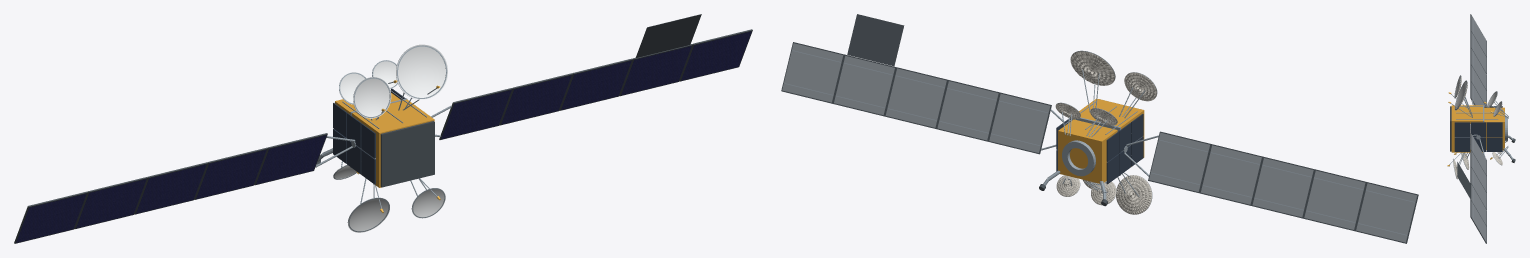
The model's file is ses-12.glb.
3 views of the same model, side by side, from view 1: azimuth 30°, elevation 25°; view 2: azimuth 150°, elevation 25°; view 3: azimuth 270°, elevation 25° (orthographic). The views are drawn at different scales.
Visible parts, largest first — view 1: Solar cell panel (×10), Earth-facing deck, Reflector 4 face, Payload module, Solar wing trim flap, Reflector 3 face, Reflector 1 face, Reflector 2 face, Reflector 7 face, Reflector 8 face, Radiator bay; view 2: Rear array substrate (×10), Service module, Solar wing trim flap, Reflector 1 insulated back, Reflector 4 insulated back, Payload module, Launch adapter ring, Reflector 3 insulated back, Solar panel frame (×2), Reflector 6 insulated back, Reflector 5 insulated back; view 3: Rear array substrate (×10), Radiator bay (×6), Payload module, Solar panel frame (×9), Service module, Solar wing trim flap, Reflector 4 face, Earth-facing deck, Reflector 1 insulated back, Launch adapter ring, Reflector 6 insulated back, Reflector 7 face (+5 smaller).
Boxes of the visible parts, left/top/right/bottom form: Solar cell panel (×10): left=16, top=31, right=751, bottom=242; Earth-facing deck: left=380, top=121, right=434, bottom=187; Reflector 4 face: left=396, top=44, right=447, bottom=99; Payload module: left=352, top=99, right=434, bottom=187; Solar wing trim flap: left=635, top=14, right=701, bottom=57; Reflector 3 face: left=353, top=77, right=391, bottom=118; Reflector 1 face: left=348, top=198, right=389, bottom=232; Reflector 2 face: left=412, top=188, right=445, bottom=218; Reflector 7 face: left=339, top=72, right=366, bottom=104; Reflector 8 face: left=372, top=60, right=397, bottom=88; Radiator bay: left=361, top=123, right=375, bottom=158; Rear array substrate (×10): left=782, top=43, right=1417, bottom=242; Service module: left=1058, top=119, right=1117, bottom=183; Solar wing trim flap: left=847, top=14, right=904, bottom=66; Reflector 1 insulated back: left=1116, top=175, right=1151, bottom=214; Reflector 4 insulated back: left=1070, top=51, right=1115, bottom=85; Payload module: left=1079, top=99, right=1144, bottom=166; Launch adapter ring: left=1062, top=140, right=1095, bottom=176; Reflector 3 insulated back: left=1124, top=72, right=1156, bottom=101; Solar panel frame (×2): left=988, top=92, right=1418, bottom=243; Reflector 6 insulated back: left=1056, top=175, right=1079, bottom=196; Reflector 5 insulated back: left=1091, top=181, right=1116, bottom=205; Rear array substrate (×10): left=1471, top=15, right=1486, bottom=242; Radiator bay (×6): left=1454, top=122, right=1502, bottom=151; Payload module: left=1451, top=105, right=1482, bottom=152; Solar panel frame (×9): left=1470, top=14, right=1486, bottom=243; Service module: left=1484, top=107, right=1504, bottom=150; Solar wing trim flap: left=1457, top=162, right=1470, bottom=198; Reflector 4 face: left=1454, top=80, right=1466, bottom=110; Earth-facing deck: left=1450, top=106, right=1451, bottom=151; Reflector 1 insulated back: left=1461, top=152, right=1469, bottom=169; Launch adapter ring: left=1505, top=116, right=1507, bottom=141; Reflector 6 insulated back: left=1492, top=152, right=1502, bottom=164; Reflector 7 face: left=1487, top=92, right=1496, bottom=107.
Size of the model in its own units: 39.27 by 9.08 by 5.61.
Materials: 10 (1 with a texture image).
